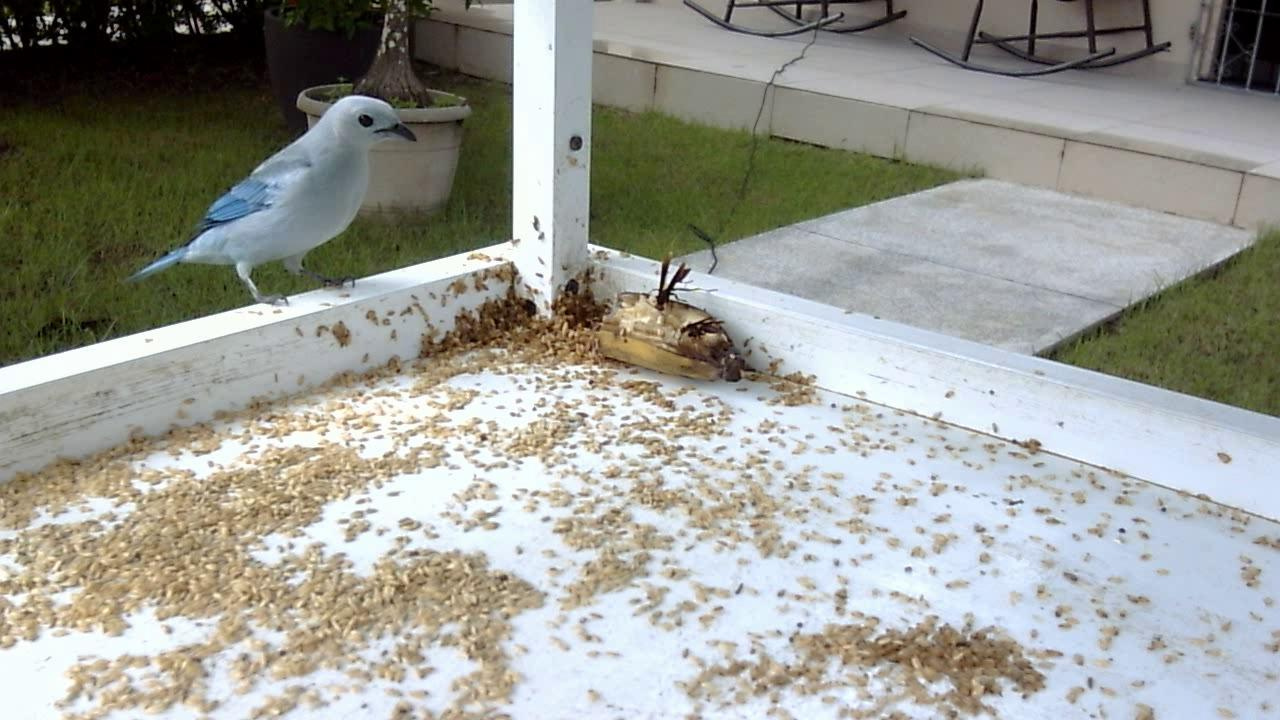sanhaco_da_amazonia: (122, 91, 419, 322)
